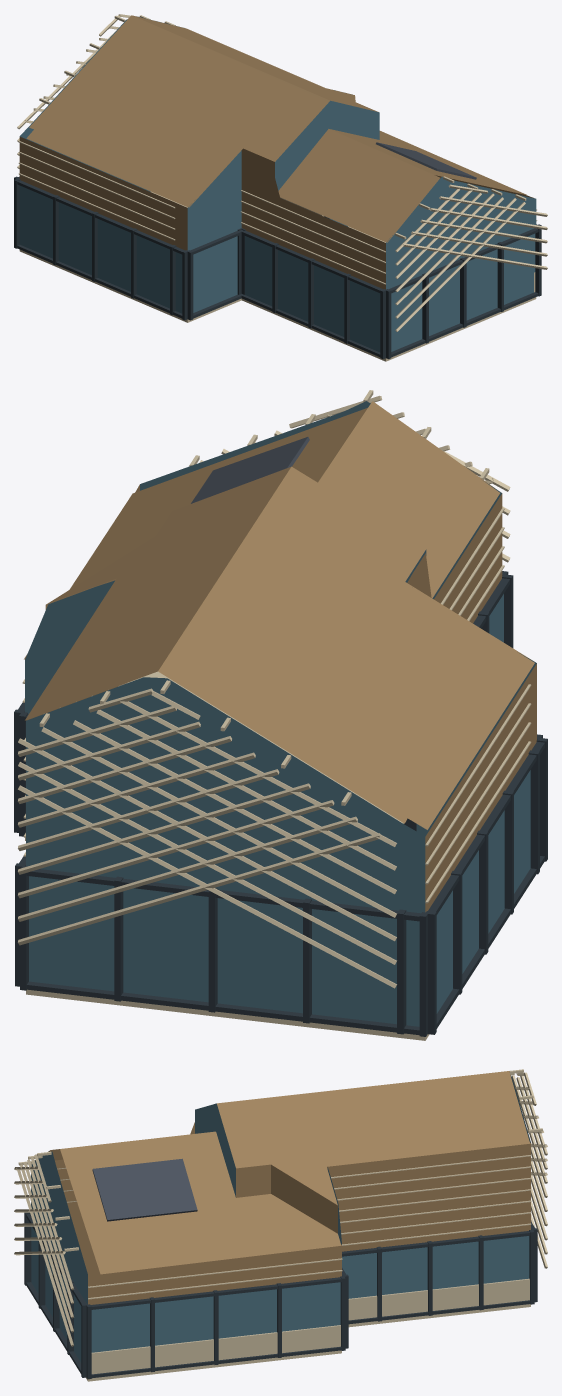
Rendered from vondeltuin.glb.
3 views of the same model, one above another, from view 1: azimuth 30°, elevation 25°; view 2: azimuth 150°, elevation 25°; view 3: azimuth 270°, elevation 25° (orthographic). The views are drawn at different scales.
Parts seen in each view (by area): view 1: vondeltuin; view 2: vondeltuin; view 3: vondeltuin.
Part boxes in pixels (left/top/right/bottom): vondeltuin: left=14, top=14, right=547, bottom=361; vondeltuin: left=14, top=390, right=547, bottom=1040; vondeltuin: left=14, top=1069, right=547, bottom=1381.
Bounding box in the file's own units: 12.97 × 6.74 × 16.09.
